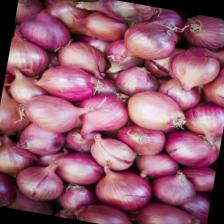onion: (108, 15, 180, 70), (17, 89, 94, 137), (30, 58, 104, 105), (122, 86, 190, 134), (92, 162, 156, 213), (164, 42, 223, 96), (74, 86, 132, 140), (12, 154, 68, 204), (160, 126, 221, 169), (148, 165, 200, 208), (86, 131, 138, 172), (114, 119, 166, 158), (181, 96, 224, 142), (129, 197, 201, 224), (177, 11, 224, 51), (72, 198, 142, 224)
